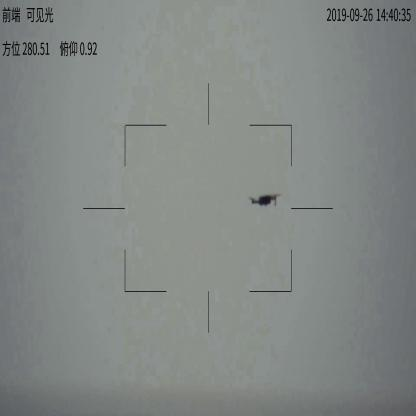uav: (247, 191, 283, 208)
